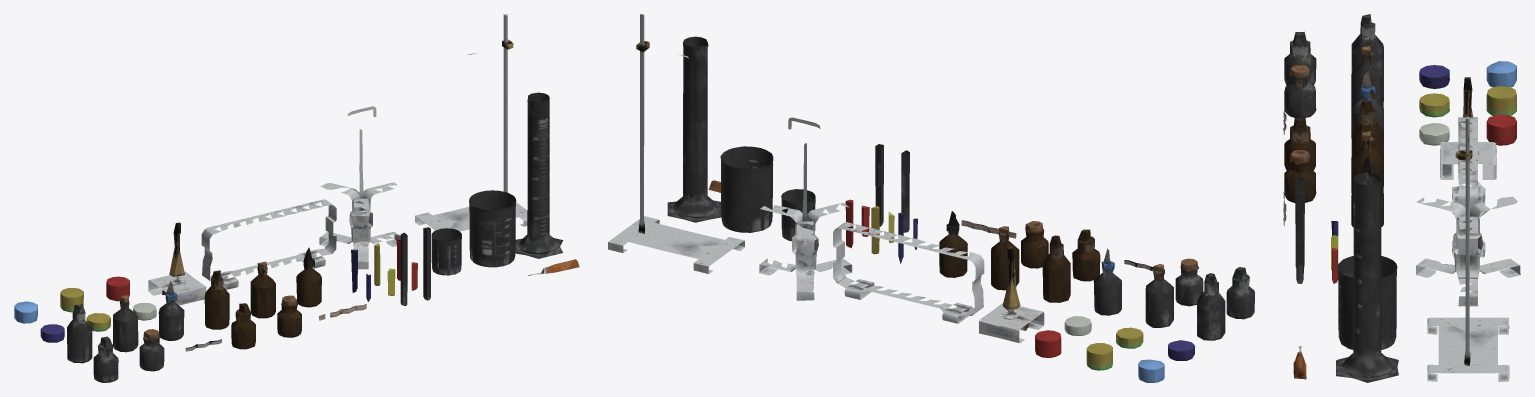
Rendered from chem_set.glb.
The picture shows the model from 3 angles, left to right: view 1: azimuth 30°, elevation 25°; view 2: azimuth 150°, elevation 25°; view 3: azimuth 270°, elevation 25°; orthographic projection. The views are drawn at different scales.
Visible parts, largest first — view 1: mesh; view 2: mesh; view 3: mesh.
Boxes of the visible parts, bbox=[...] form: mesh: bbox=[14, 14, 579, 382]; mesh: bbox=[608, 14, 1254, 382]; mesh: bbox=[1283, 14, 1520, 382].
Bounding box in the file's own units: 1.09 × 0.43 × 0.356.
Materials: 1 (1 with a texture image).
